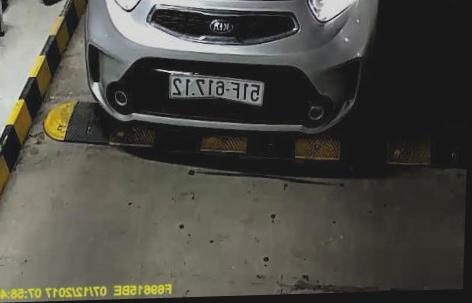License_Plate: (165, 68, 268, 110)
